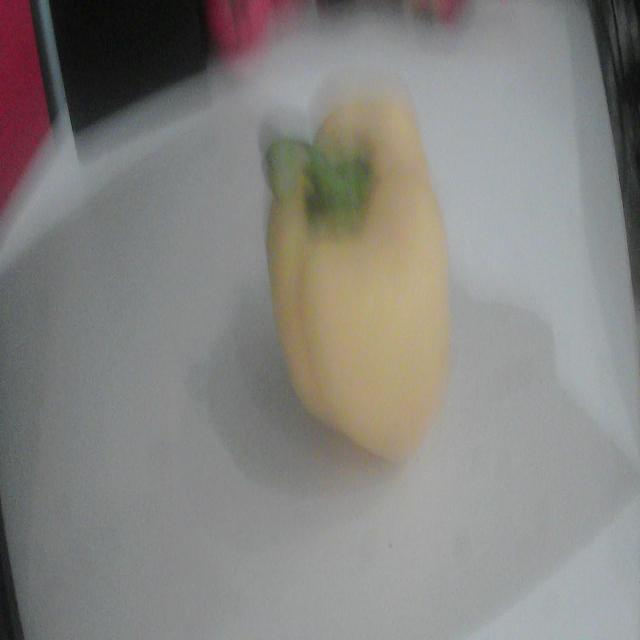Bell Pepper: (265, 92, 450, 461)
